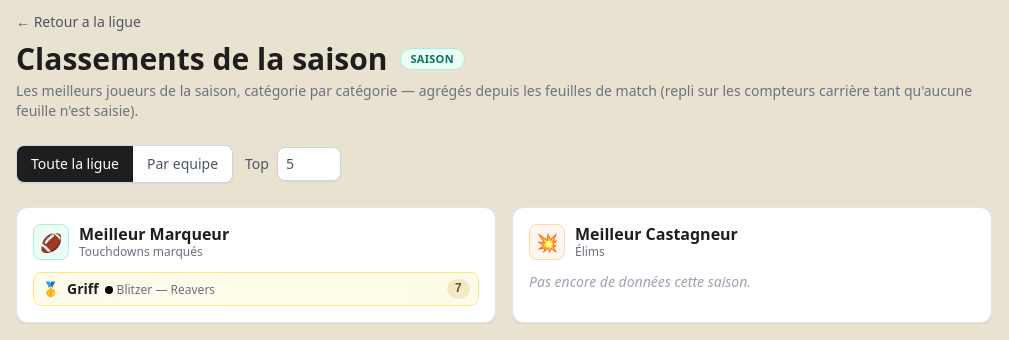
LeaderboardsPage › bascule en mode par équipe : tops des TOTAUX par équipe
Expected: the element with test id "leaderboards-global" is shown, [16,207,992,323]
Click the button with test id "leaderboards-mode-by-team": (182, 164) [133,146,232,182]
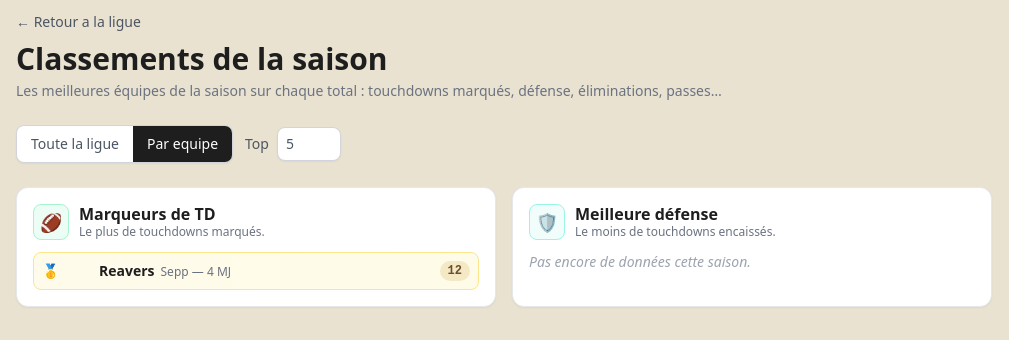
Now the element with test id "leaderboards-teams" is shown, box [16,187,992,307]
Now the element with test id "team-leaderboard-card-topScorers" shows "Reavers", box [99,261,154,280]
Now the element with test id "team-leaderboard-card-topScorers" shows "12", box [448,264,462,278]
